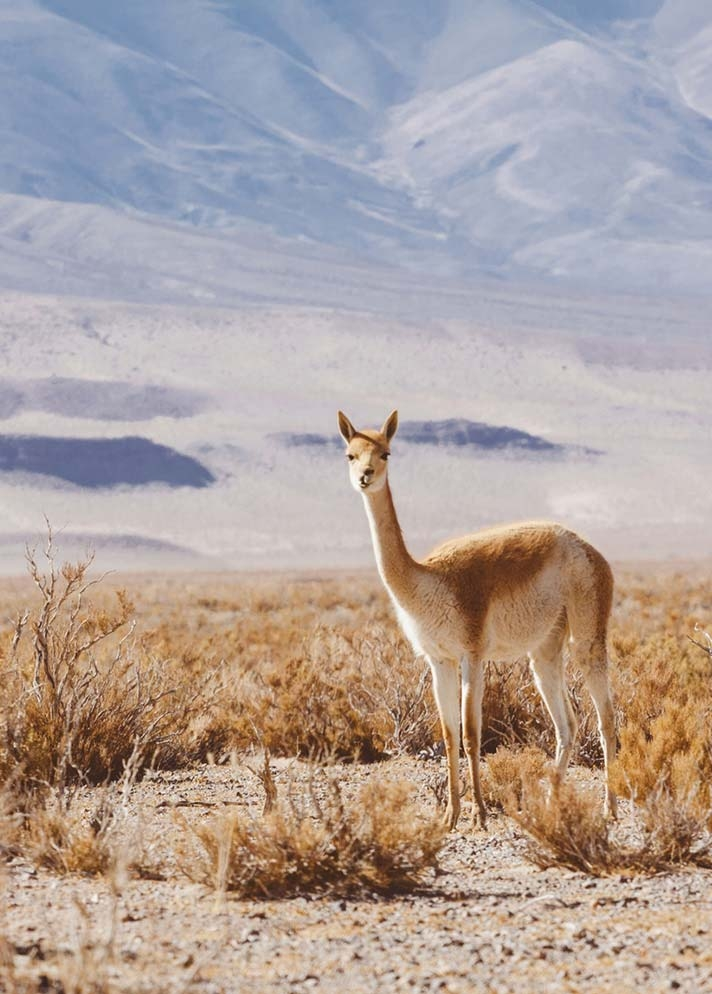eye: (341, 446, 362, 464), (380, 445, 394, 468)
mouth: (355, 477, 393, 494)
